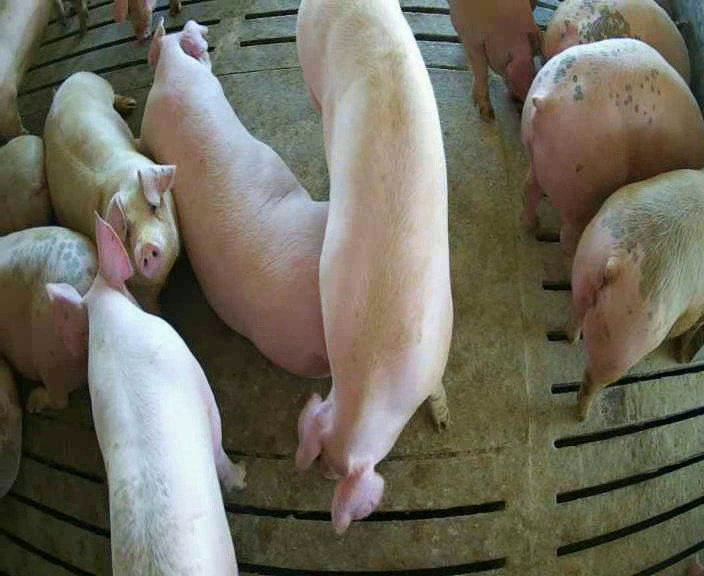pig: (296, 3, 452, 532), (46, 215, 242, 574), (141, 16, 328, 375), (522, 39, 703, 256), (567, 170, 703, 419), (44, 72, 179, 314), (0, 227, 96, 413), (544, 2, 689, 81), (449, 1, 541, 120), (0, 135, 51, 234)
